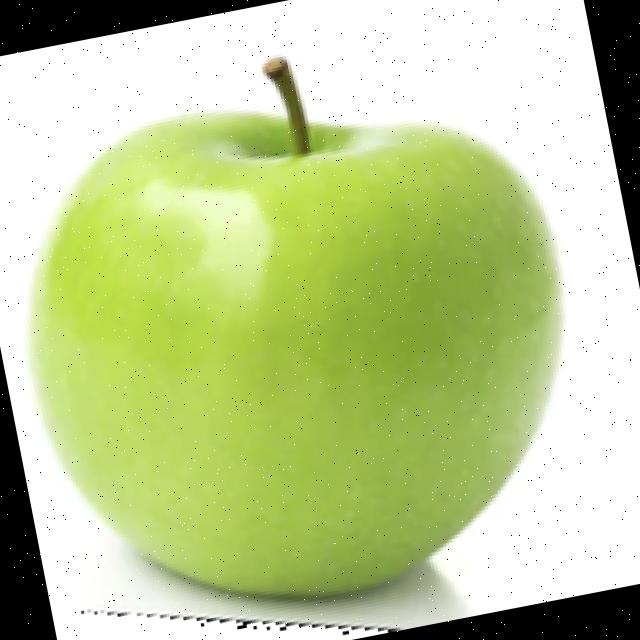apple: (24, 51, 569, 635)
